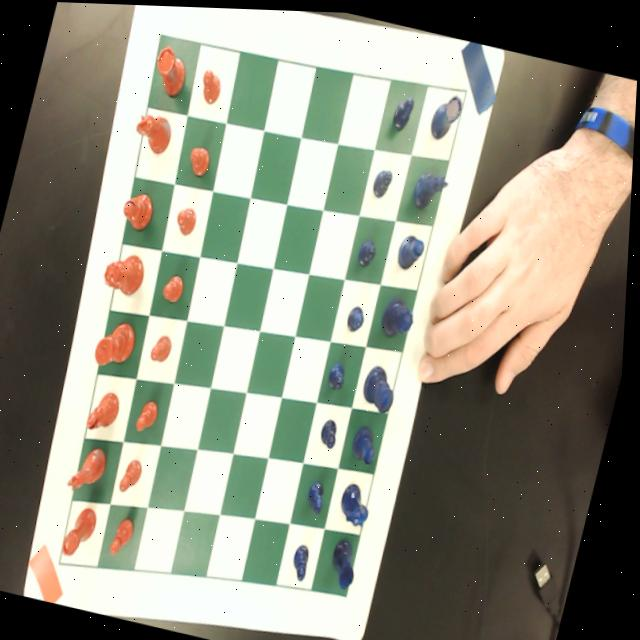B: (395, 228, 429, 270), (353, 421, 384, 462)
K: (361, 359, 403, 411)
N: (341, 476, 382, 524), (411, 164, 452, 210)
P: (389, 89, 417, 131), (293, 538, 318, 582), (370, 161, 396, 198), (308, 476, 334, 513), (320, 411, 346, 447), (328, 356, 352, 390), (358, 233, 381, 267), (346, 301, 370, 333)
Q: (380, 290, 421, 339)
R: (329, 534, 369, 589), (428, 84, 466, 141)
b: (120, 186, 160, 232), (89, 386, 127, 434)
k: (95, 316, 143, 371)
n: (69, 441, 115, 497), (129, 108, 176, 156)
p: (113, 513, 141, 557), (197, 64, 226, 105), (122, 454, 150, 494), (137, 394, 165, 434), (186, 140, 215, 177), (162, 269, 189, 304), (174, 202, 201, 237), (151, 330, 177, 364)
q: (103, 247, 150, 296)
r: (148, 39, 193, 99), (64, 502, 105, 561)
